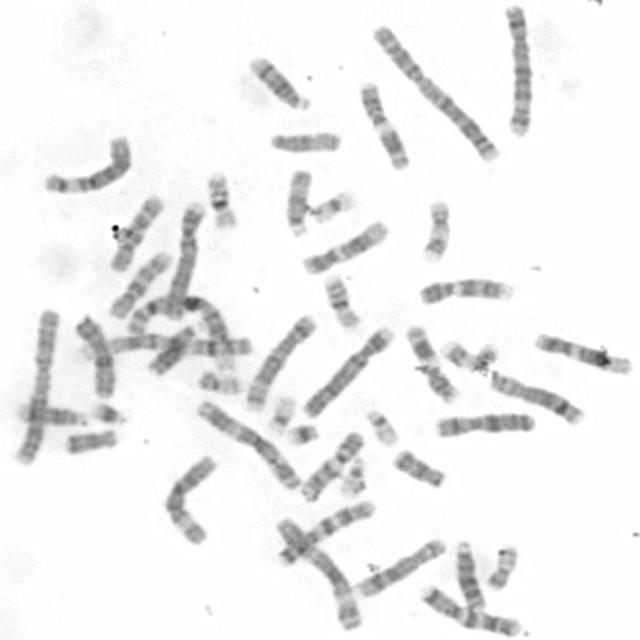A1: (118, 288, 242, 376), (70, 328, 256, 364)
A2: (366, 20, 503, 165), (8, 303, 60, 469)
A3: (270, 514, 366, 632), (190, 396, 305, 493)
B4: (296, 321, 396, 420), (161, 197, 208, 323)
B5: (242, 309, 318, 412), (498, 1, 537, 138)
C10: (104, 247, 174, 320), (105, 191, 166, 273)
C11: (355, 78, 413, 171), (402, 318, 461, 404)
C12: (297, 216, 390, 277), (528, 328, 636, 377)
C6: (38, 130, 134, 196), (159, 448, 221, 548)
C7: (272, 496, 378, 568), (415, 580, 524, 638)
C8: (351, 533, 449, 599), (484, 368, 588, 426)
C9: (296, 428, 365, 503), (413, 272, 517, 308)
D13: (143, 316, 202, 378), (450, 536, 487, 613)
D14: (242, 50, 314, 113), (13, 398, 90, 429)
D15: (280, 164, 315, 238), (264, 124, 344, 156)
E16: (319, 273, 362, 330), (204, 168, 242, 230)
E17: (414, 194, 454, 266), (437, 335, 500, 371)
E18: (389, 446, 448, 491), (59, 424, 122, 458)
F19: (305, 185, 360, 226), (262, 390, 298, 437)
F20: (482, 542, 520, 592), (193, 366, 244, 395)
G21: (87, 398, 131, 426), (280, 419, 322, 448)
G22: (361, 405, 401, 448), (335, 453, 368, 498)
X: (72, 312, 118, 400), (431, 408, 538, 438)
